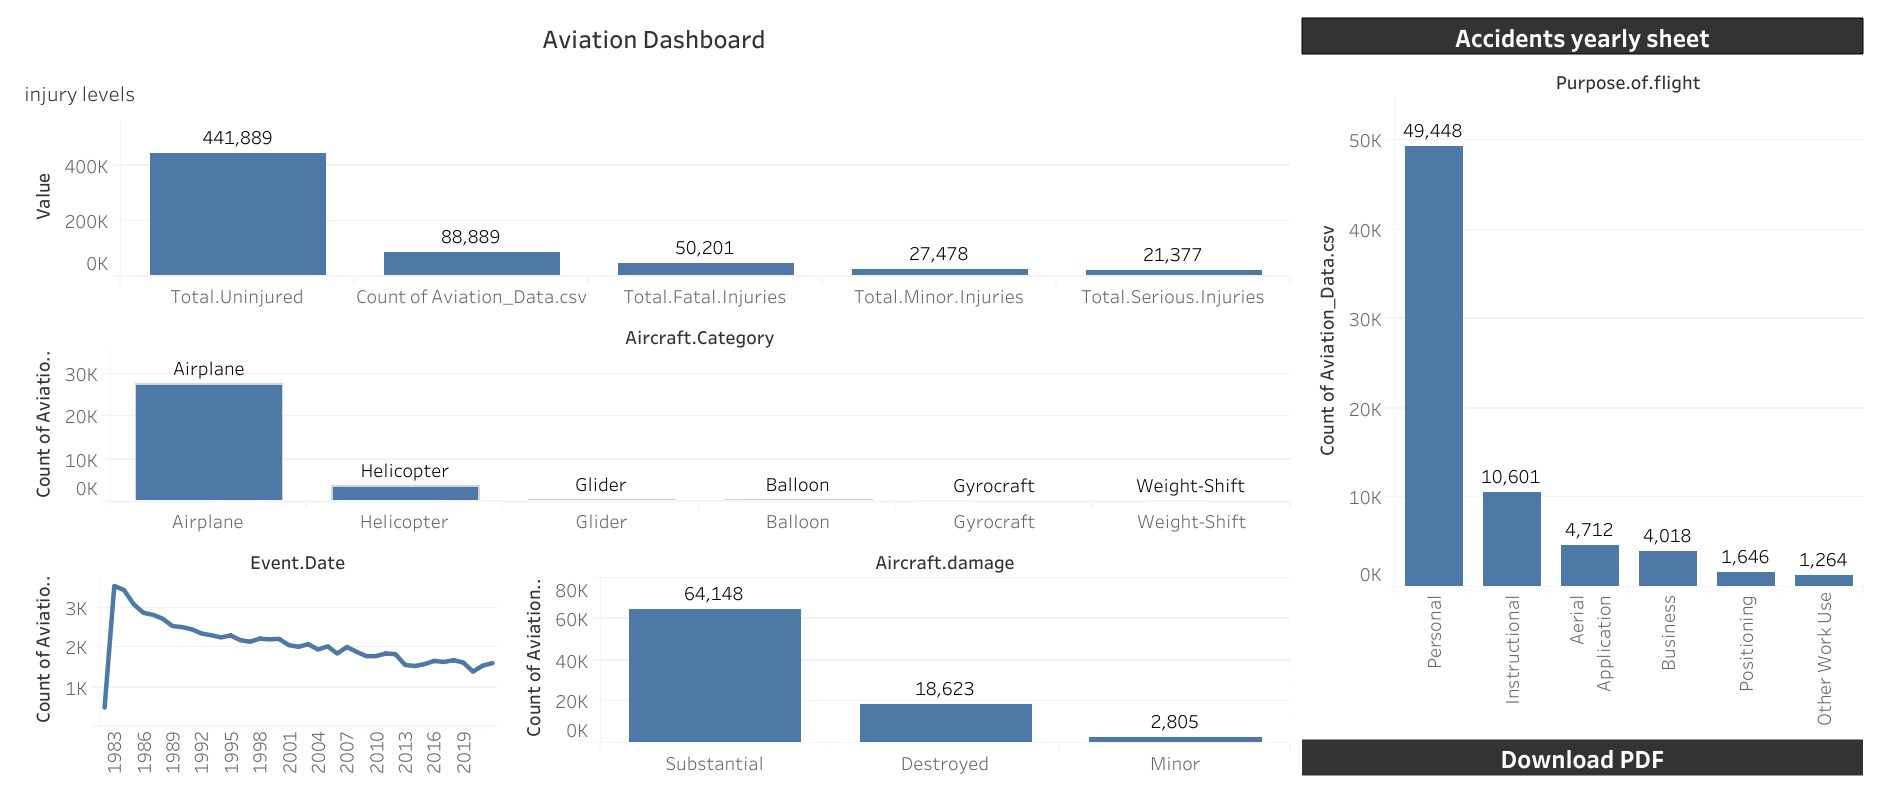

The page's visual inventory and layout, read from the dashboard file:
{"tool":"tableau","page":{"name":"Aviation Dashboard","canvas":[1000,1000],"units":"permille","ordinal":0},"visuals":[{"type":"title","box":[7.8,12.4,611.3,52.8]},{"type":"dashboard-object","box":[619.1,12.4,373.1,49.7]},{"type":"worksheet","title":"purpose of flight","mark":"Automatic","rows":["Aviation_Data.csv_C586E77A41D7421292E1968865EB17D0"],"cols":["Purpose.of.flight"],"box":[619.1,62.1,373.1,875.8]},{"type":"worksheet","title":"injury levels","mark":"Automatic","box":[7.8,65.2,611.3,260.9]},{"type":"worksheet","title":"Aircraft category","mark":"Automatic","rows":["Aviation_Data.csv_C586E77A41D7421292E1968865EB17D0"],"cols":["Aircraft.Category"],"box":[7.8,326.1,611.3,232.9]},{"type":"worksheet","title":"Accidents rates yearly","mark":"Automatic","rows":["Aviation_Data.csv_C586E77A41D7421292E1968865EB17D0"],"cols":["Event.Date"],"box":[7.8,559,319.3,428.6]},{"type":"worksheet","title":"aircraft damage","mark":"Automatic","rows":["Aviation_Data.csv_C586E77A41D7421292E1968865EB17D0"],"cols":["Aircraft.damage"],"box":[327.1,559,292,428.6]},{"type":"dashboard-object","box":[619.1,937.9,373.1,49.7]}]}

Visuals, with their boxes on the dashboard's canvas, which has no fixed pixel size, in thousandths of its width and height (x1, y1, x2, y2). These are canvas units, not pixel positions in the 1880x792 screenshot, which may show the page scaled, cropped or inside an application window:
title: crop(8, 12, 619, 65)
dashboard-object: crop(619, 12, 992, 62)
"purpose of flight" worksheet: crop(619, 62, 992, 938)
"injury levels" worksheet: crop(8, 65, 619, 326)
"Aircraft category" worksheet: crop(8, 326, 619, 559)
"Accidents rates yearly" worksheet: crop(8, 559, 327, 988)
"aircraft damage" worksheet: crop(327, 559, 619, 988)
dashboard-object: crop(619, 938, 992, 988)
